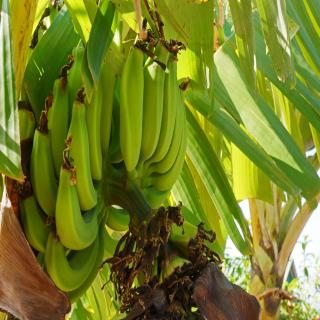Banana: (11, 40, 222, 273)
